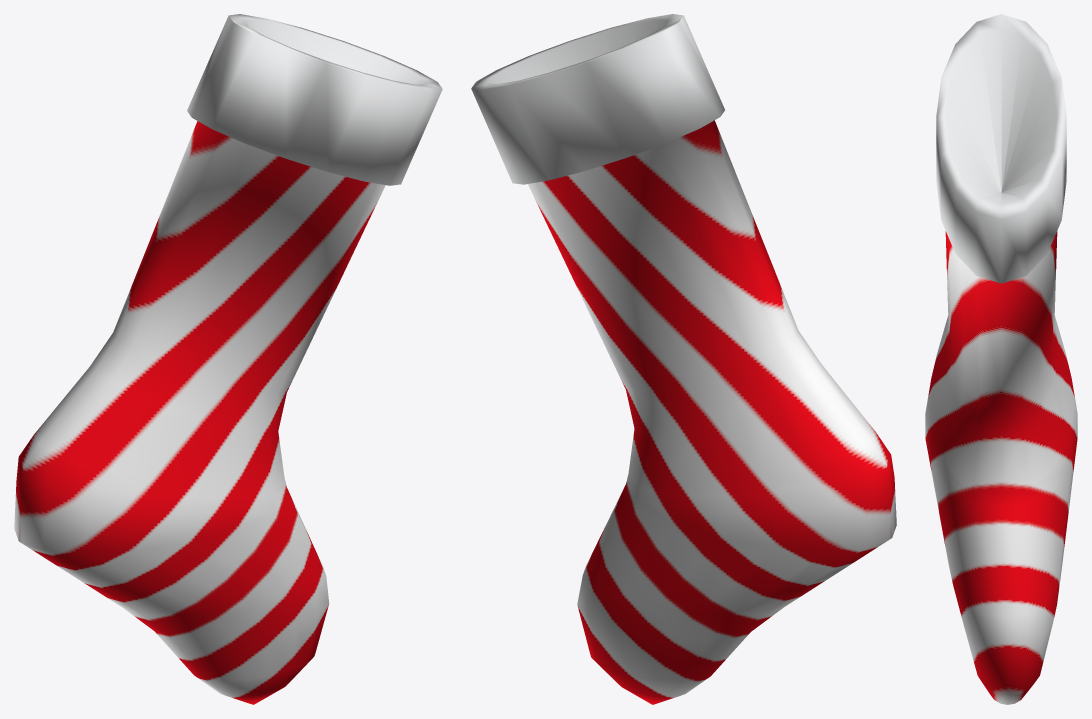
The model's file is 0dcb8649-be76-4892-9b01-bbf44ae8ed78.glb.
The picture shows the model from 3 angles, left to right: view 1: azimuth 30°, elevation 25°; view 2: azimuth 150°, elevation 25°; view 3: azimuth 270°, elevation 25°; orthographic projection.
Visible parts, largest first — view 1: XmasStocking; view 2: XmasStocking; view 3: XmasStocking.
Part boxes in pixels (bbox=[...]): XmasStocking: bbox=[14, 14, 442, 704]; XmasStocking: bbox=[471, 14, 896, 704]; XmasStocking: bbox=[925, 14, 1077, 704].
Bounding box in the file's own units: 0.3051 × 0.4805 × 0.0974.
Materials: 1 (1 with a texture image).
